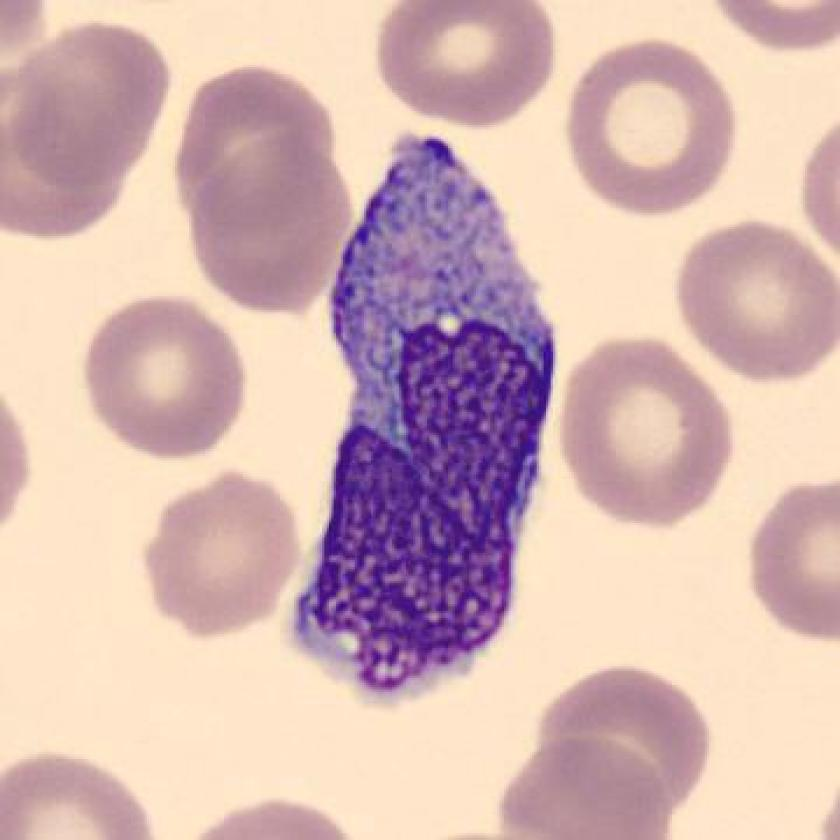monocyte: (253, 112, 589, 725)
